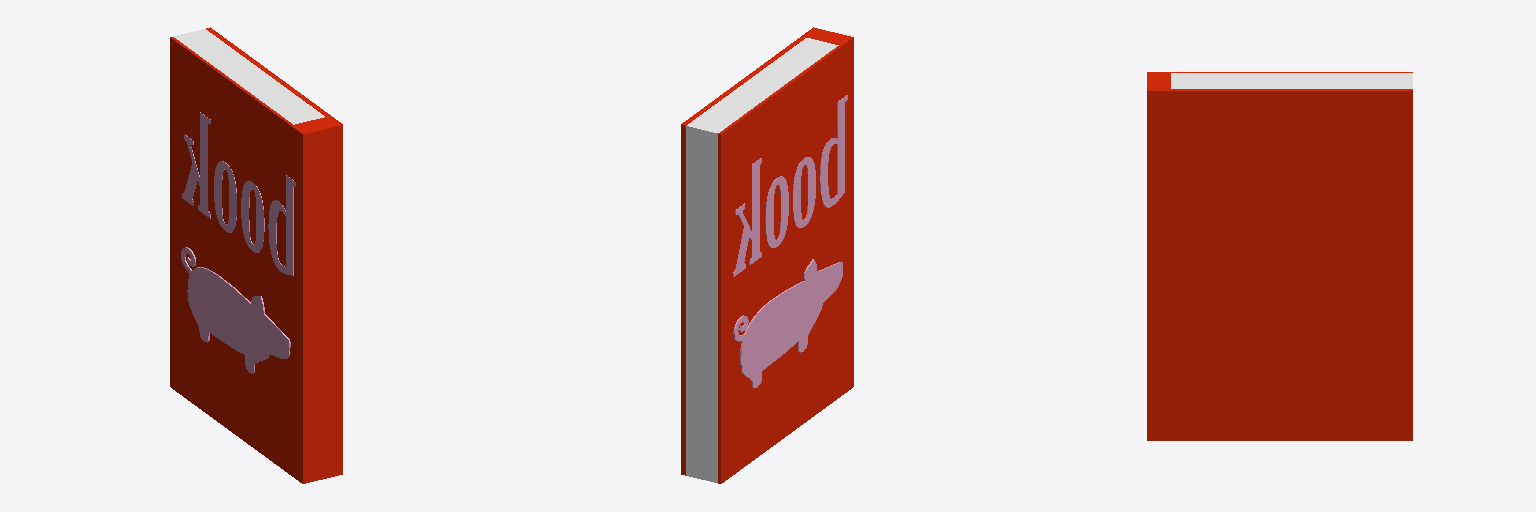
File: OrangeBook.obj
The picture shows the model from 3 angles: view 1: azimuth 30°, elevation 25°; view 2: azimuth 150°, elevation 25°; view 3: azimuth 270°, elevation 25°; orthographic projection.
Visible parts, largest first — view 1: tinker; view 2: tinker; view 3: tinker.
Part boxes in pixels (left/top/right/bottom): tinker: left=170, top=27, right=342, bottom=483; tinker: left=681, top=27, right=853, bottom=483; tinker: left=1147, top=72, right=1412, bottom=440.
Bounding box in the file's own units: 2 × 16 × 11.